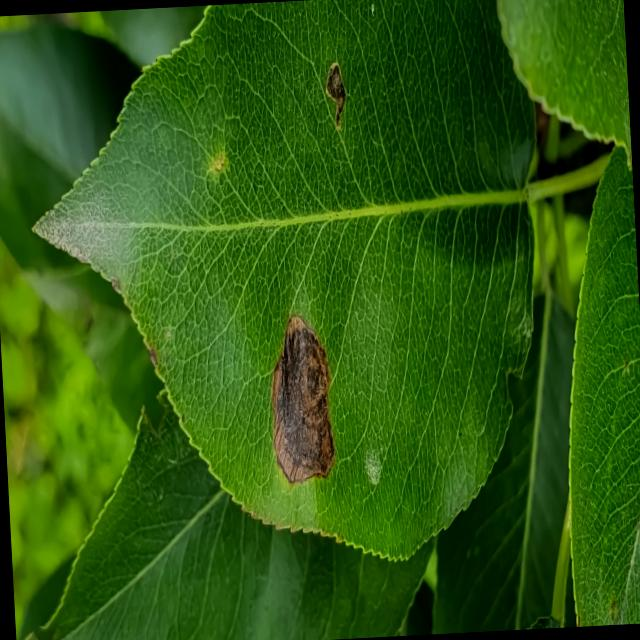leaf_spot: (36, 0, 535, 558)
